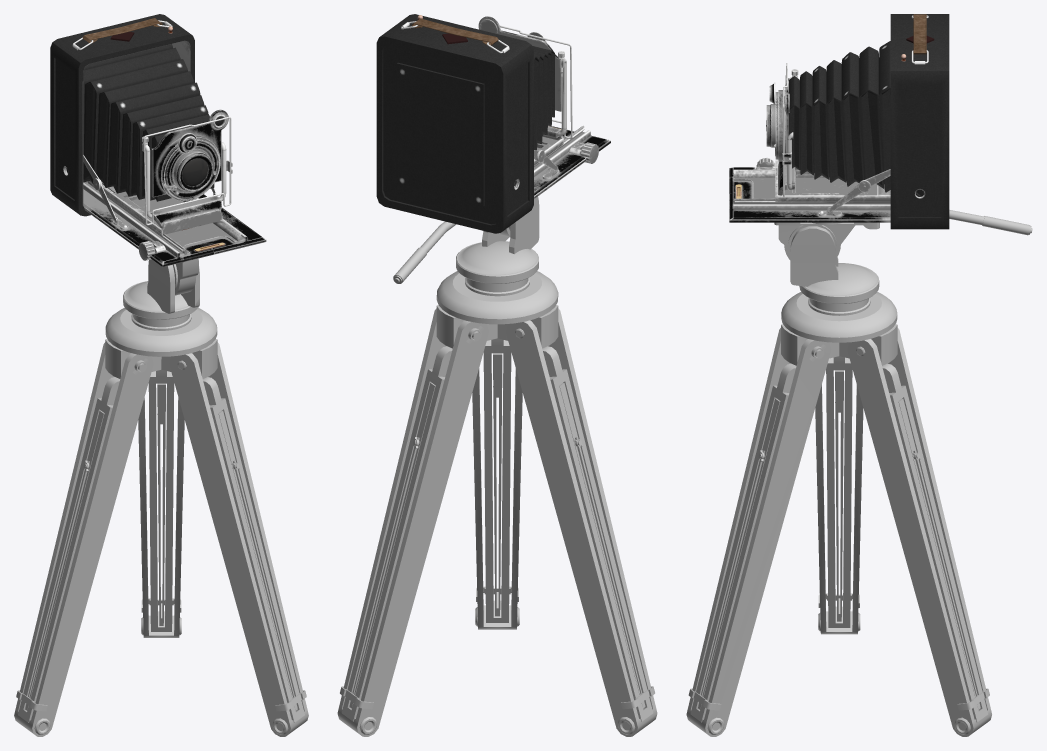
3 renders of one model, left to right at view 1: azimuth 30°, elevation 25°; view 2: azimuth 150°, elevation 25°; view 3: azimuth 270°, elevation 25°, orthographic. The views are drawn at different scales.
Parts seen in each view (by area): view 1: tripod, camera; view 2: tripod, camera; view 3: tripod, camera.
Part boxes in pixels (x1,y1,x2,y2): tripod: (14, 258, 308, 736); camera: (50, 14, 266, 266); tripod: (337, 196, 657, 736); camera: (376, 14, 610, 233); tripod: (686, 210, 1032, 736); camera: (729, 14, 949, 229).
Size of the model in its own units: 2.6 by 7.21 by 3.39.
